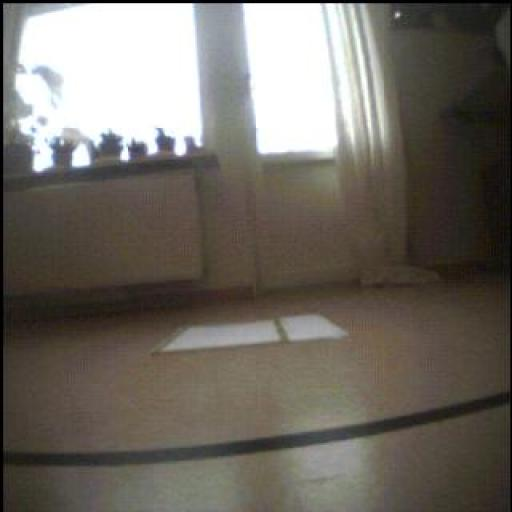Pad: (159, 312, 349, 356)
